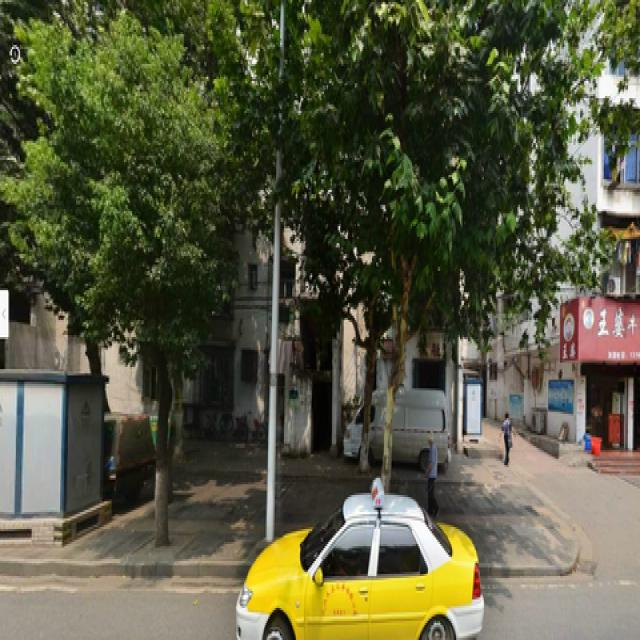cinn: (65, 28, 203, 533)
meta: (315, 11, 516, 495)
